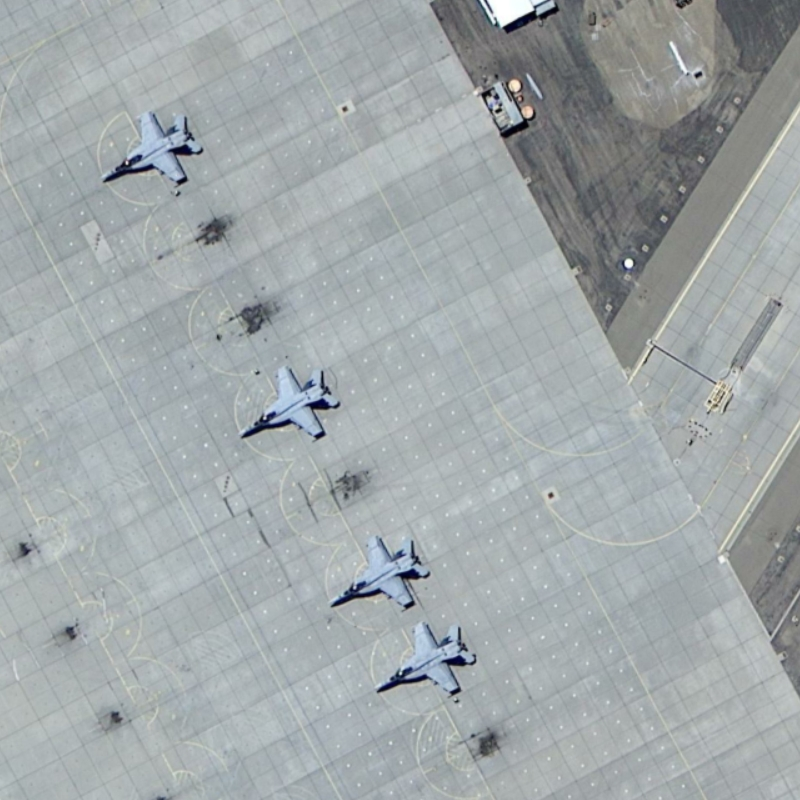A16: (93, 104, 209, 191), (366, 614, 479, 702), (227, 361, 342, 444), (326, 528, 432, 614)
